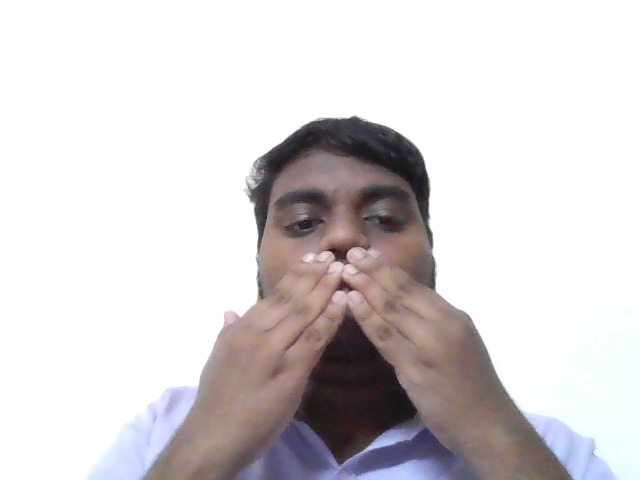Thank you: (135, 247, 517, 451)
